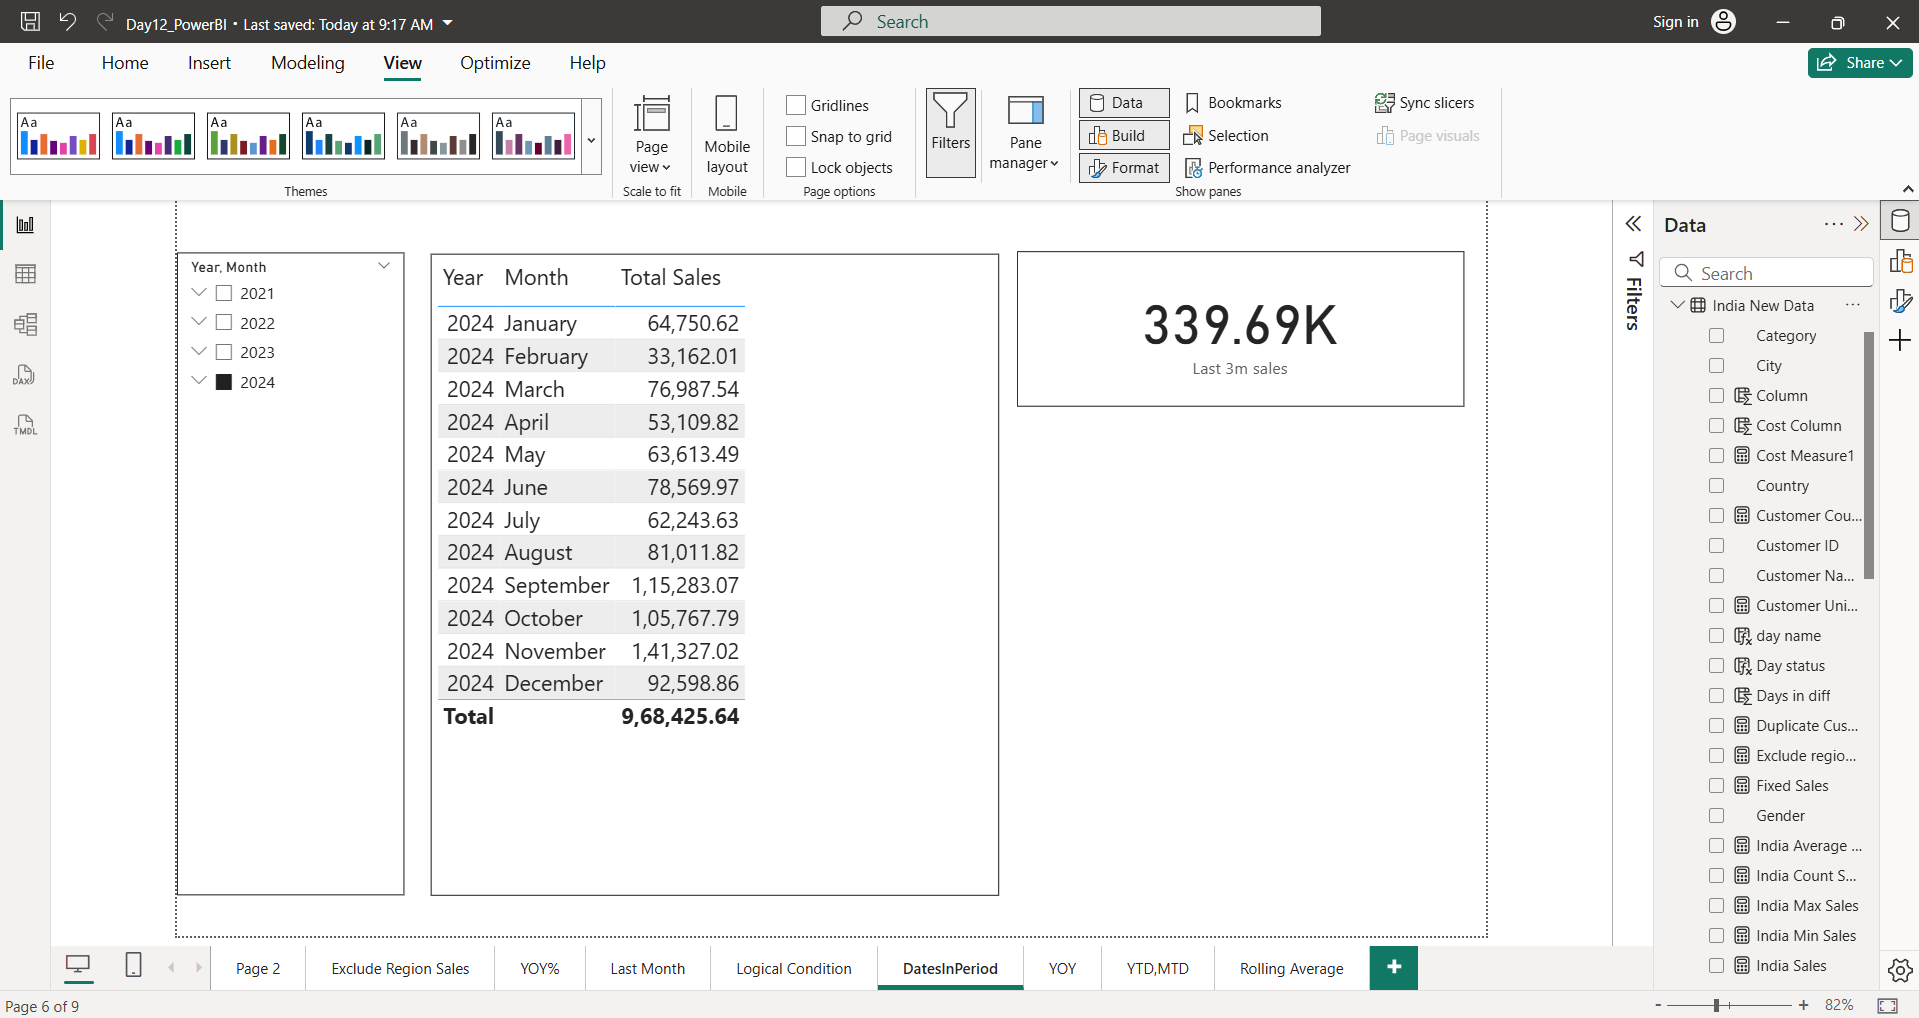

The page's visual inventory and layout, read from the dashboard file:
{"tool":"powerbi","page":{"name":"DatesInPeriod","canvas":[1280,720],"ordinal":5},"visuals":[{"type":"card","fields":{"Values":["India New Data.Last 3m sales"]},"box":[821.3,50.7,437.3,152],"z":0},{"type":"slicer","fields":{"Values":["India New Data.Order Date.Variation.Date Hierarchy.Year","India New Data.Order Date.Variation.Date Hierarchy.Month"]},"box":[0,51.3,222.5,628.9],"z":1000},{"type":"tableEx","fields":{"Values":["India New Data.Order Date.Variation.Date Hierarchy.Year","India New Data.Order Date.Variation.Date Hierarchy.Month","India New Data.Total Sales"]},"box":[248,52,556,628],"z":2000}]}

Visuals, with their boxes on the page's 1280x720 design canvas (x1, y1, x2, y2). These are canvas units, not pixel positions in the 1919x1018 screenshot, which may show the page scaled, cropped or inside an application window:
card - India New Data.Last 3m sales: bbox(821, 51, 1259, 203)
slicer - India New Data.Order Date.Variation.Date Hierarchy.Year x India New Data.Order Date.Variation.Date Hierarchy.Month: bbox(0, 51, 222, 680)
tableEx - India New Data.Order Date.Variation.Date Hierarchy.Year x India New Data.Order Date.Variation.Date Hierarchy.Month: bbox(248, 52, 804, 680)
